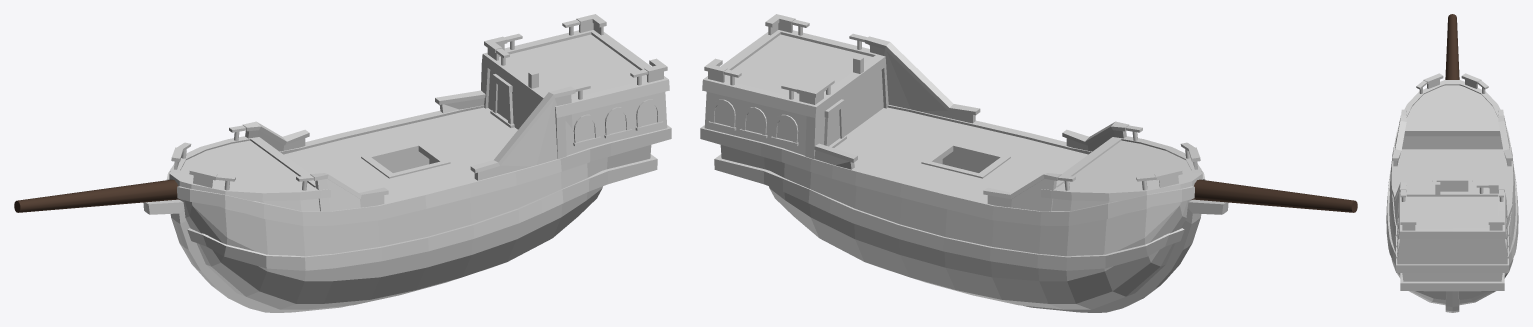
The model's file is Ship.fbx.
The picture shows the model from 3 angles, left to right: view 1: azimuth 30°, elevation 25°; view 2: azimuth 150°, elevation 25°; view 3: azimuth 270°, elevation 25°; orthographic projection. The views are drawn at different scales.
Parts seen in each view (by area): view 1: Cylinder.032, Cylinder.033, Cylinder.034, Cylinder.035, Cube.019, Ship.007, Cylinder.036, Cube.020, Cylinder.037, Cylinder.048, Cylinder.038, Cylinder.040 (+5 smaller); view 2: Cylinder.032, Cylinder.033, Cylinder.034, Cylinder.035, Cube.019, Ship.007, Cylinder.036, Cube.020, Cylinder.037, Cylinder.048, Cube.032, Cylinder.038 (+5 smaller); view 3: Cylinder.032, Cylinder.033, Cylinder.035, Cylinder.034, Cylinder.036, Ship.007, Cube.020, Cylinder.048, Cylinder.037, Cube.019, Cube.032, Cube.034 (+2 smaller).
Part boxes in pixels (x1,y1,x2,y2): Cylinder.032: [179, 34, 667, 309]; Cylinder.033: [143, 154, 657, 312]; Cylinder.034: [166, 105, 671, 225]; Cylinder.035: [481, 30, 669, 158]; Cube.019: [435, 86, 575, 180]; Ship.007: [14, 179, 180, 212]; Cylinder.036: [169, 136, 330, 201]; Cube.020: [243, 121, 388, 211]; Cylinder.037: [361, 141, 450, 178]; Cylinder.048: [171, 125, 314, 190]; Cylinder.038: [635, 99, 663, 130]; Cylinder.040: [604, 107, 632, 138]; Cylinder.032: [704, 34, 1192, 309]; Cylinder.033: [714, 154, 1228, 312]; Cylinder.034: [700, 105, 1205, 225]; Cylinder.035: [702, 30, 888, 158]; Cube.019: [814, 36, 980, 169]; Ship.007: [1191, 179, 1357, 212]; Cylinder.036: [1041, 136, 1202, 201]; Cube.020: [983, 121, 1128, 211]; Cylinder.037: [921, 141, 1010, 178]; Cylinder.048: [1057, 125, 1200, 190]; Cube.032: [781, 79, 834, 104]; Cylinder.038: [708, 99, 736, 130]; Cylinder.032: [1389, 85, 1515, 305]; Cylinder.033: [1386, 166, 1518, 312]; Cylinder.035: [1397, 191, 1507, 239]; Cylinder.034: [1389, 127, 1515, 273]; Cylinder.036: [1397, 80, 1507, 136]; Ship.007: [1445, 14, 1459, 79]; Cube.020: [1392, 115, 1512, 166]; Cylinder.048: [1401, 73, 1503, 115]; Cylinder.037: [1432, 178, 1472, 191]; Cube.019: [1392, 182, 1512, 225]; Cube.032: [1476, 183, 1504, 201]; Cube.034: [1400, 211, 1416, 230].
Size of the model in its own units: 5130 by 1557 by 1321.
